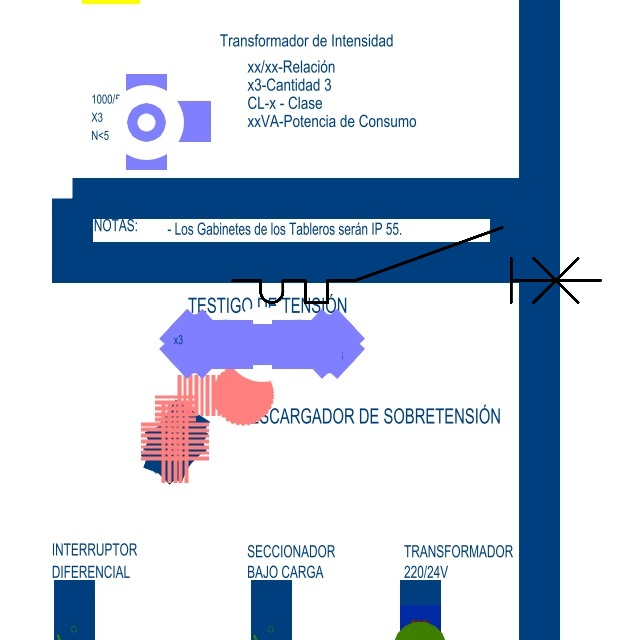interruptor_termomagnetico: (223, 218, 610, 312)
